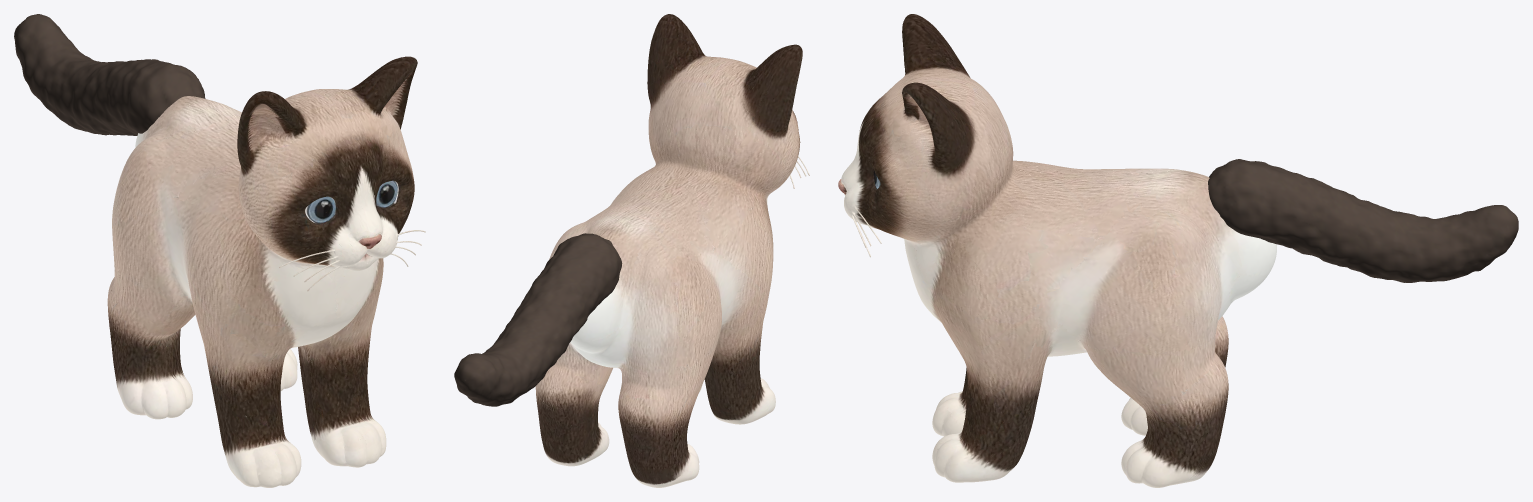
The model's file is meshy-snowshoe.glb.
3 views of the same model, side by side, from view 1: azimuth 30°, elevation 25°; view 2: azimuth 150°, elevation 25°; view 3: azimuth 270°, elevation 25° (orthographic). The views are drawn at different scales.
Visible parts, largest first — view 1: Mesh_0, tail.001; view 2: Mesh_0, tail.001; view 3: Mesh_0, tail.001.
Part boxes in pixels (bbox=[...]): Mesh_0: bbox=[107, 56, 425, 487]; tail.001: bbox=[14, 14, 205, 135]; Mesh_0: bbox=[535, 14, 809, 487]; tail.001: bbox=[454, 233, 622, 406]; Mesh_0: bbox=[838, 14, 1276, 487]; tail.001: bbox=[1208, 159, 1518, 282].
Size of the model in its own units: 0.8789 by 1.9 by 2.91.
Materials: 2 (1 with a texture image).
